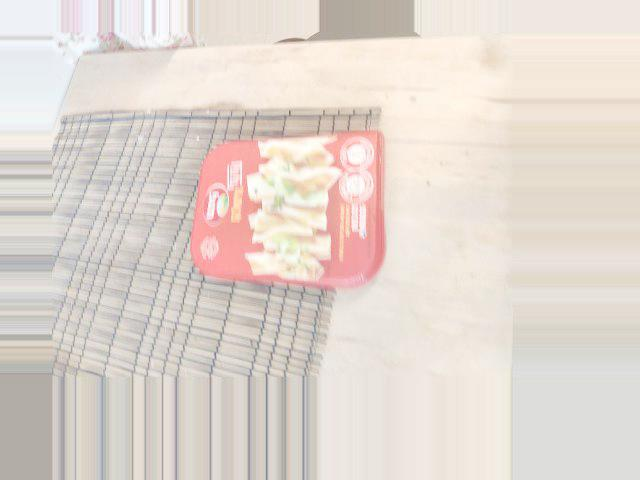cheese: (149, 157, 270, 354)
